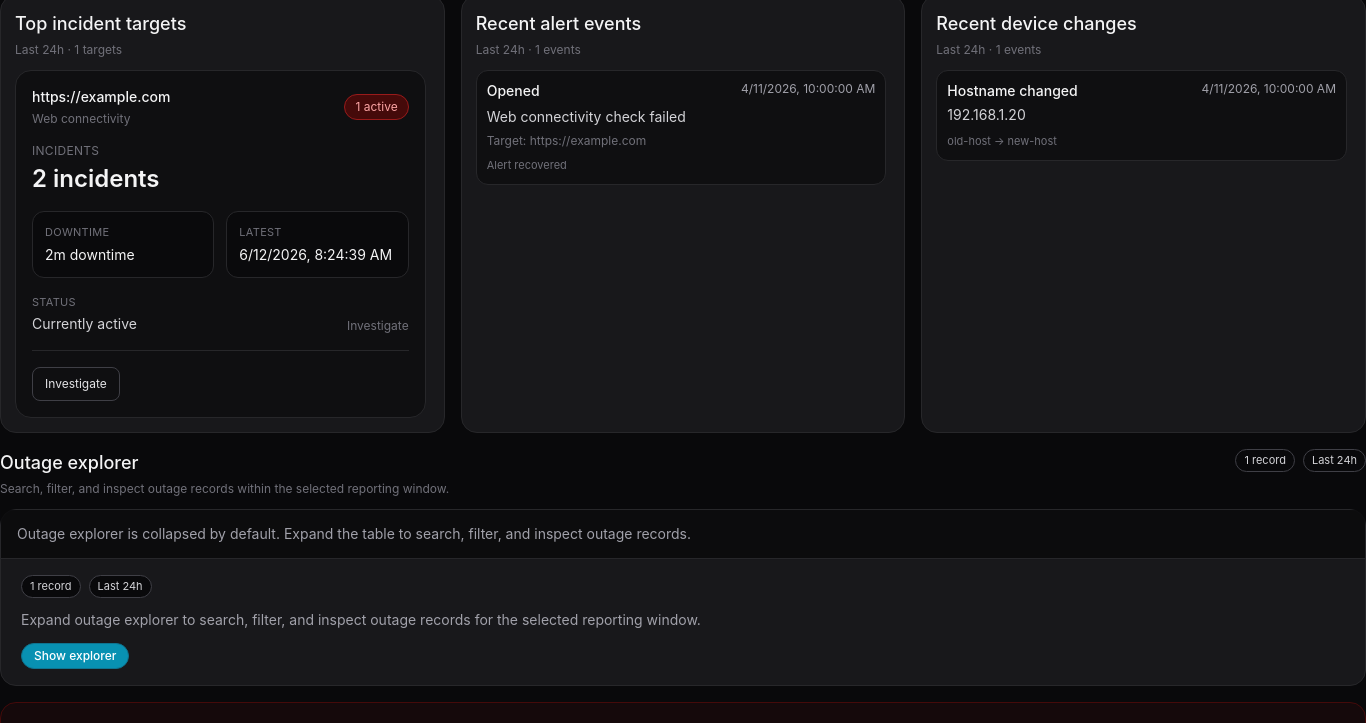
Test: opens outage explorer filters from a top incident target investigation
The image size is (1366, 723).
(page scrolled)
Click the button with aria-label "Investigate incident target https://example.com" at (76, 384), box [32,367,120,401]
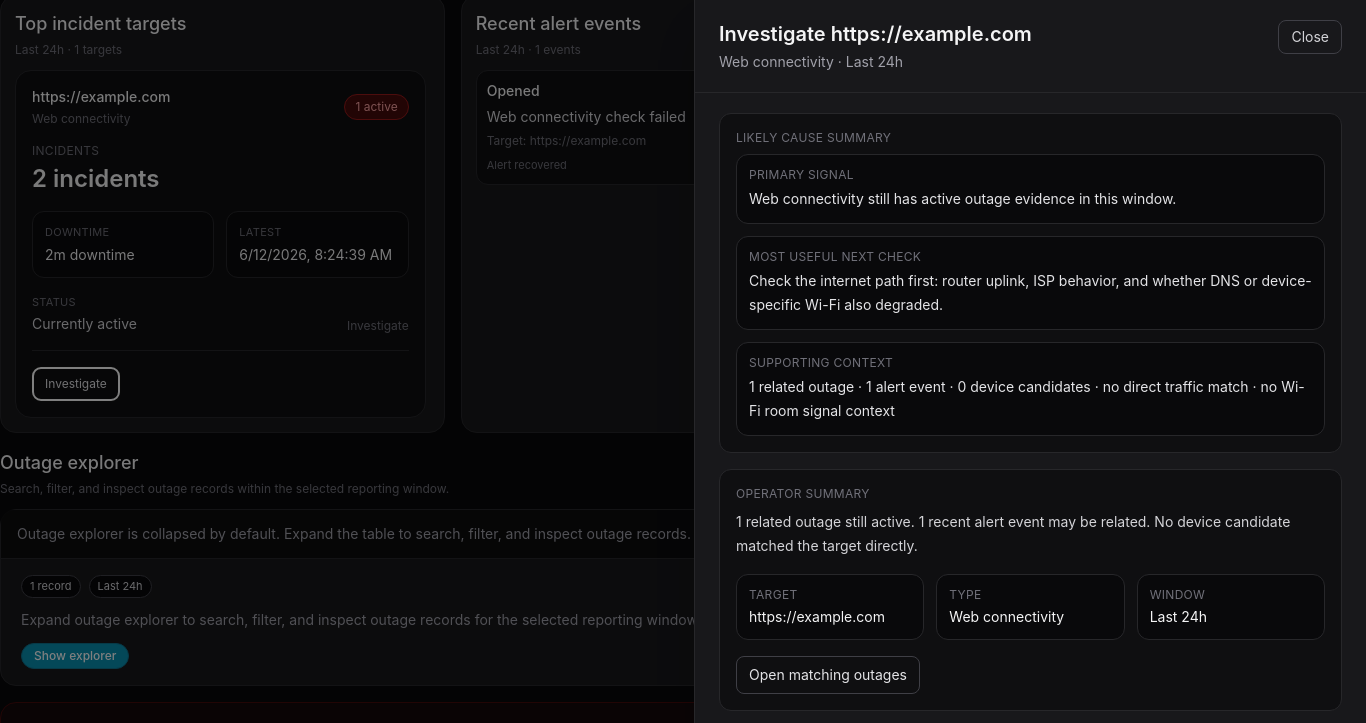
Check: the heading "Investigate https://example.com" is shown, box [719,20,1032,48]
Click the button "Open matching outages" at (828, 675), box [736,656,920,694]
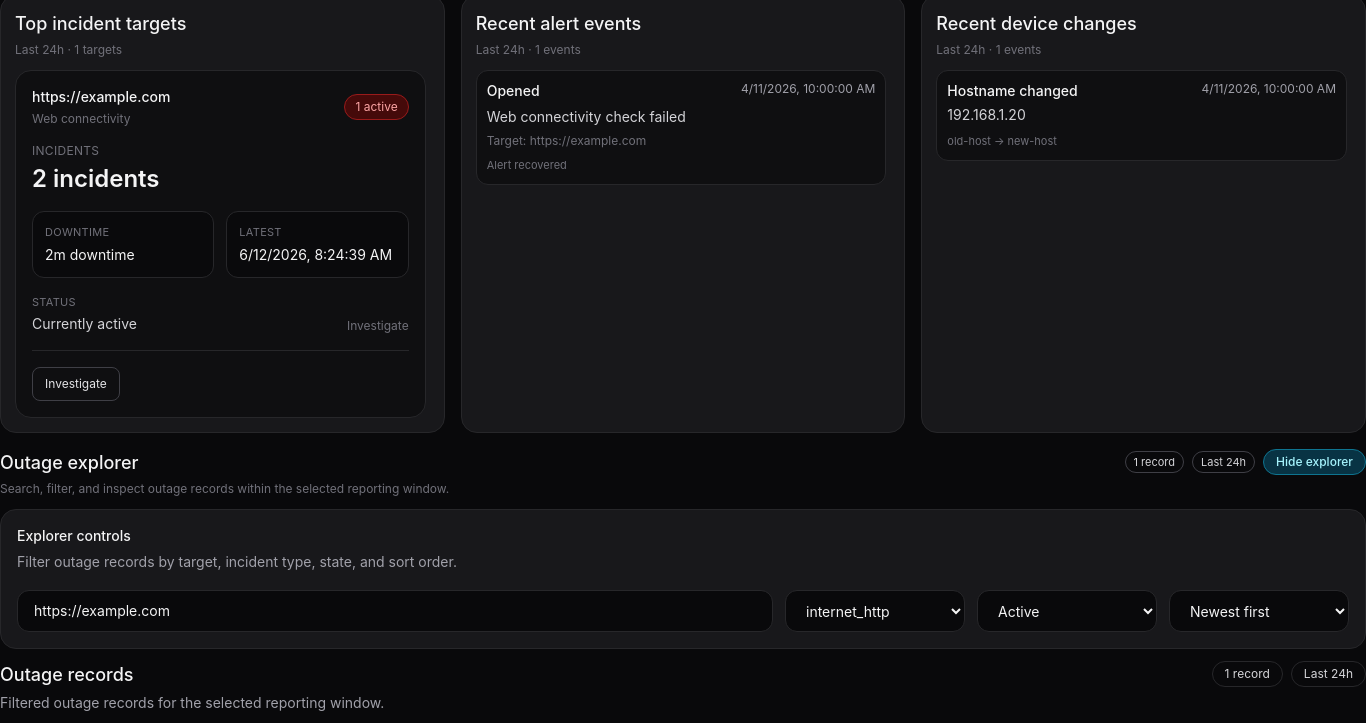
Check: the field with placeholder "Search target, type, status, error..." holds "https://example.com", box [17,590,773,632]
Check: the 1st dropdown shows "internet_http", box [785,590,965,632]
Check: the 2nd dropdown shows "Active", box [977,590,1157,632]
